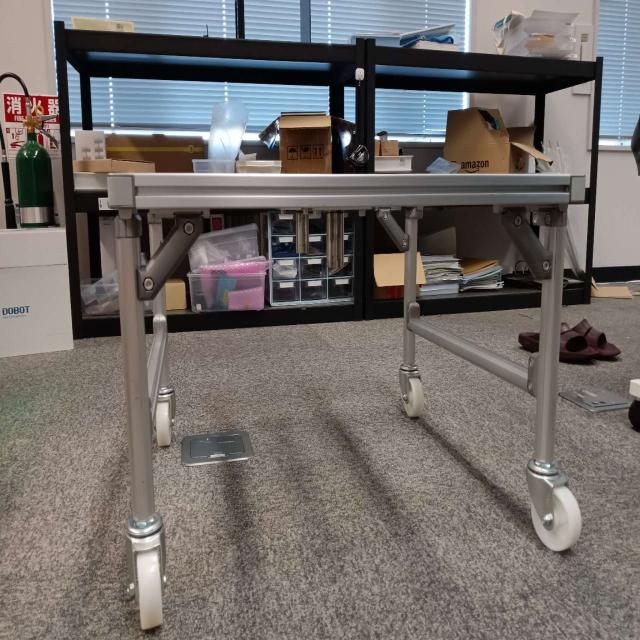door: (112, 166, 566, 295)
